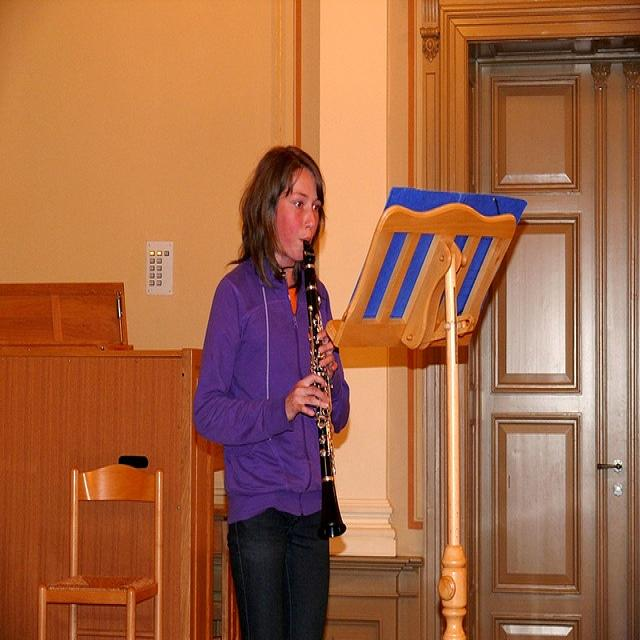clarinet: (298, 239, 349, 542)
